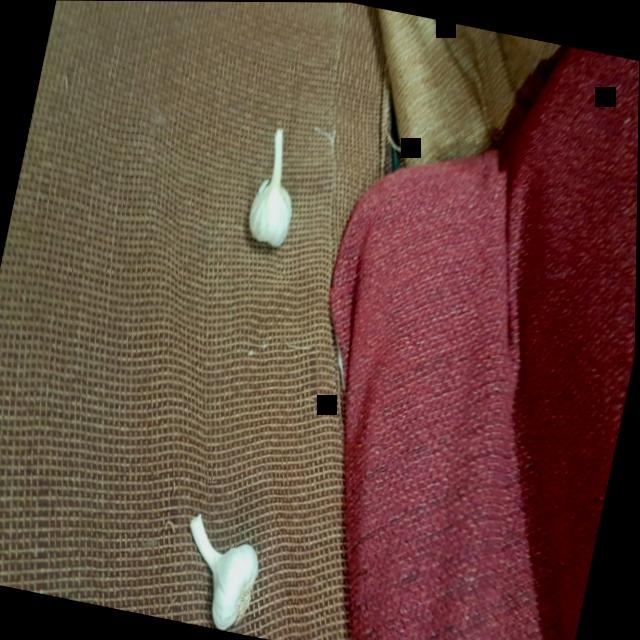garlic: (169, 507, 275, 631), (229, 118, 313, 252)
